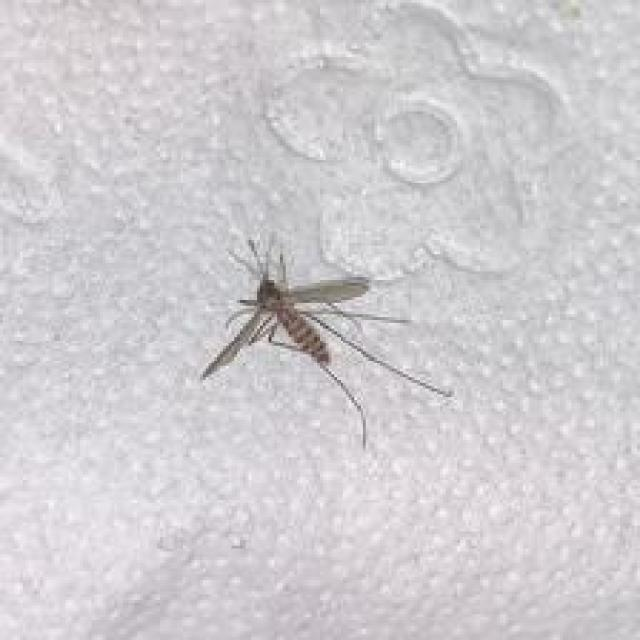Culex: (198, 233, 453, 450)
